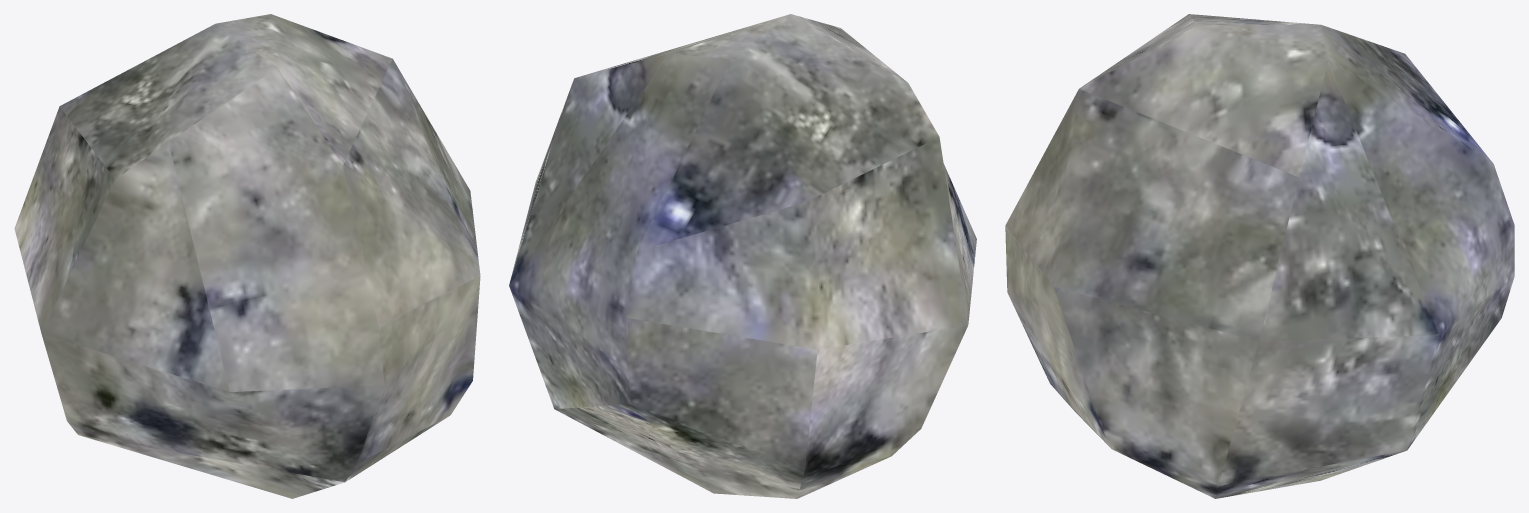
Rendered from Asteroid5-low.glb.
3 renders of one model, left to right at view 1: azimuth 30°, elevation 25°; view 2: azimuth 150°, elevation 25°; view 3: azimuth 270°, elevation 25°, orthographic. The views are drawn at different scales.
Visible parts, largest first — view 1: mesh_node; view 2: mesh_node; view 3: mesh_node.
Boxes of the visible parts, x1=… form: mesh_node: x1=14, y1=14, x2=480, y2=498; mesh_node: x1=509, y1=14, x2=976, y2=498; mesh_node: x1=1005, y1=14, x2=1514, y2=498.
Size of the model in its own units: 0.998 by 0.9687 by 1.
1 material, 1 textured.
